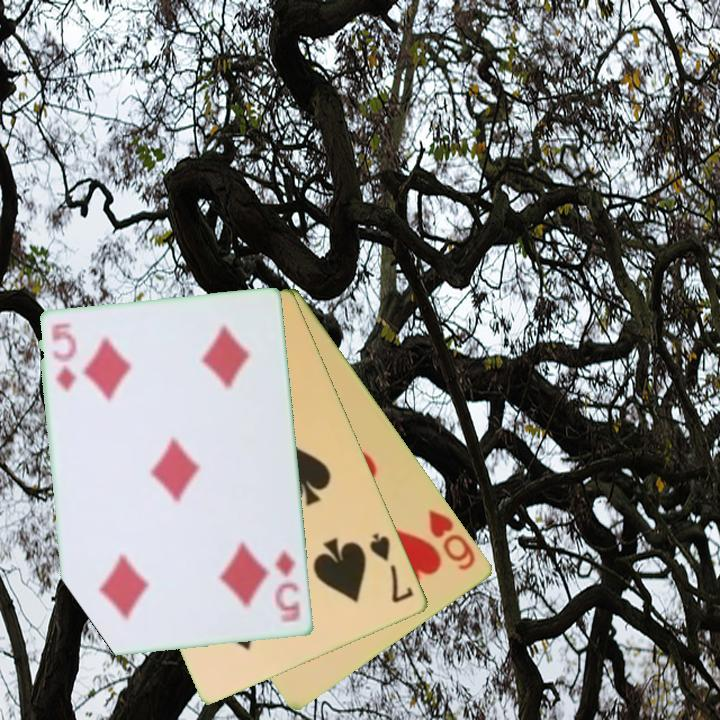5d: (272, 546, 304, 626), (50, 327, 79, 396)
6h: (425, 505, 479, 574)
7s: (366, 529, 417, 606)
